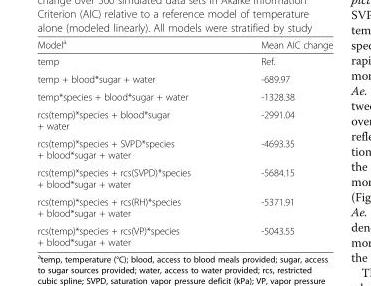table: (36, 37, 332, 247)
table column: (36, 37, 225, 247), (225, 37, 332, 247)
table column header: (36, 37, 332, 52)
table row: (36, 105, 332, 134), (36, 134, 332, 163), (36, 163, 332, 192), (36, 192, 332, 221), (36, 221, 332, 247), (36, 69, 332, 87), (36, 87, 332, 105), (36, 52, 332, 69), (36, 37, 332, 52)
